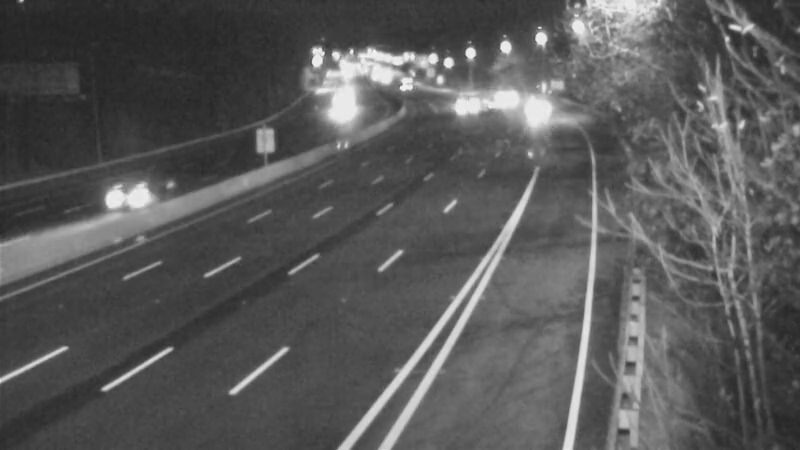vehicle: (98, 155, 178, 235), (381, 59, 431, 109), (478, 73, 528, 123), (510, 82, 560, 132), (463, 78, 513, 128), (440, 77, 490, 127), (316, 76, 366, 126)
